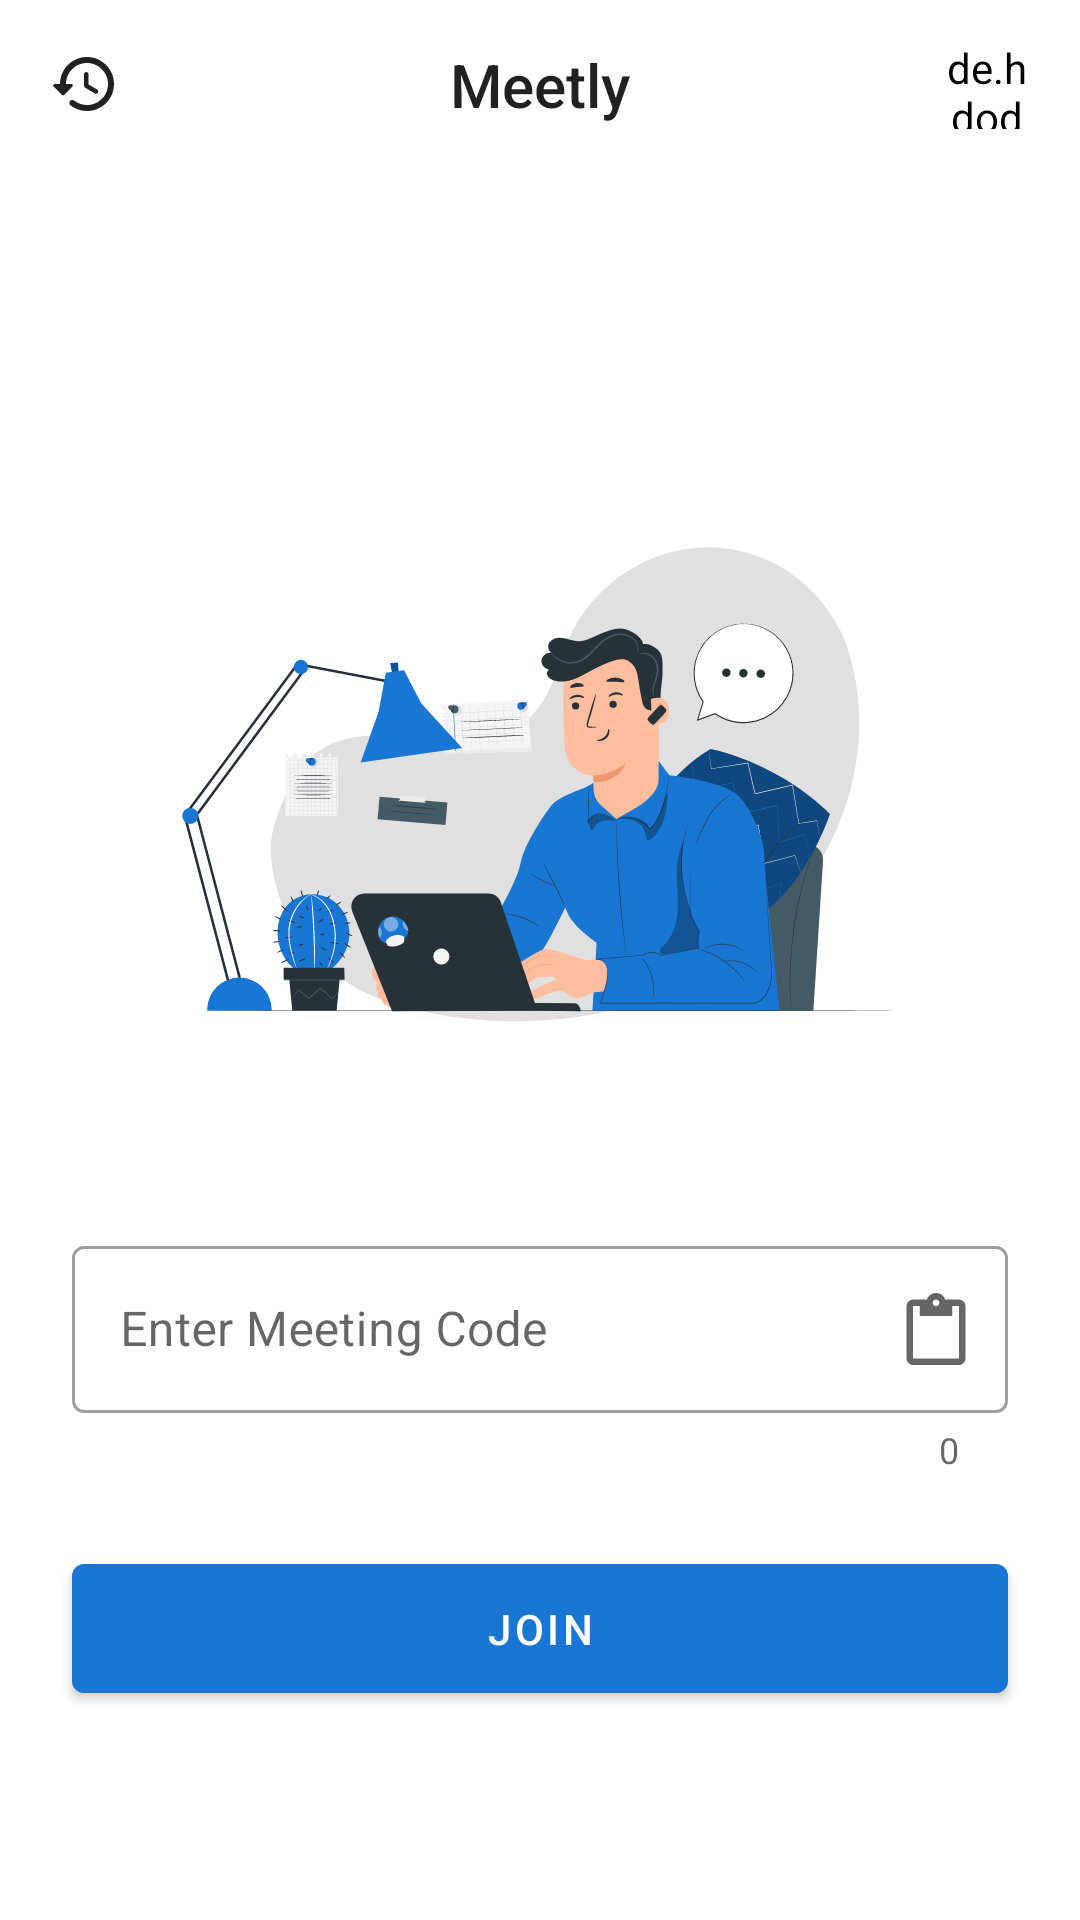

Locate icon controls on the screen. Image size 1080 × 1920, boxes as (x1, y1, x2, y2).
history: (53, 57, 114, 111)
